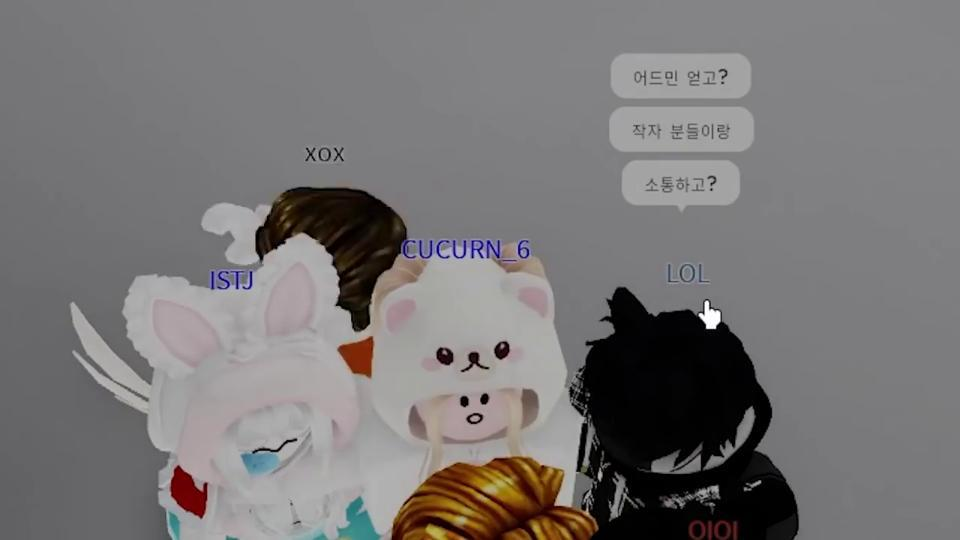Character: (71, 232, 381, 540), (370, 242, 584, 540), (570, 286, 799, 540), (202, 187, 408, 377)
